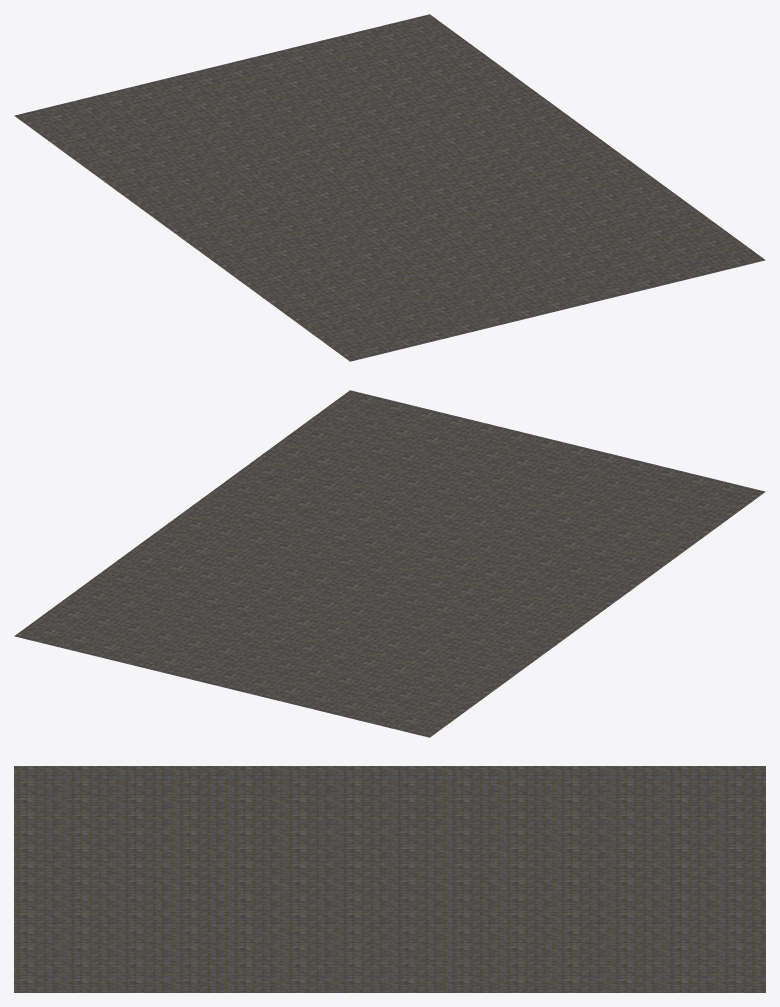
Rendered from adoquin.obj.
3 views of the same model, one above another, from view 1: azimuth 30°, elevation 25°; view 2: azimuth 150°, elevation 25°; view 3: azimuth 270°, elevation 25° (orthographic). The views are drawn at different scales.
Parts seen in each view (by area): view 1: Piso:pPlane1; view 2: Piso:pPlane1; view 3: Piso:pPlane1.
Part boxes in pixels (x1,y1,x2,y2): Piso:pPlane1: (14,14,765,361); Piso:pPlane1: (14,390,765,737); Piso:pPlane1: (14,766,765,992).
Bounding box in the file's own units: 20.62 × 0 × 28.88.
Materials: 1 (1 with a texture image).
